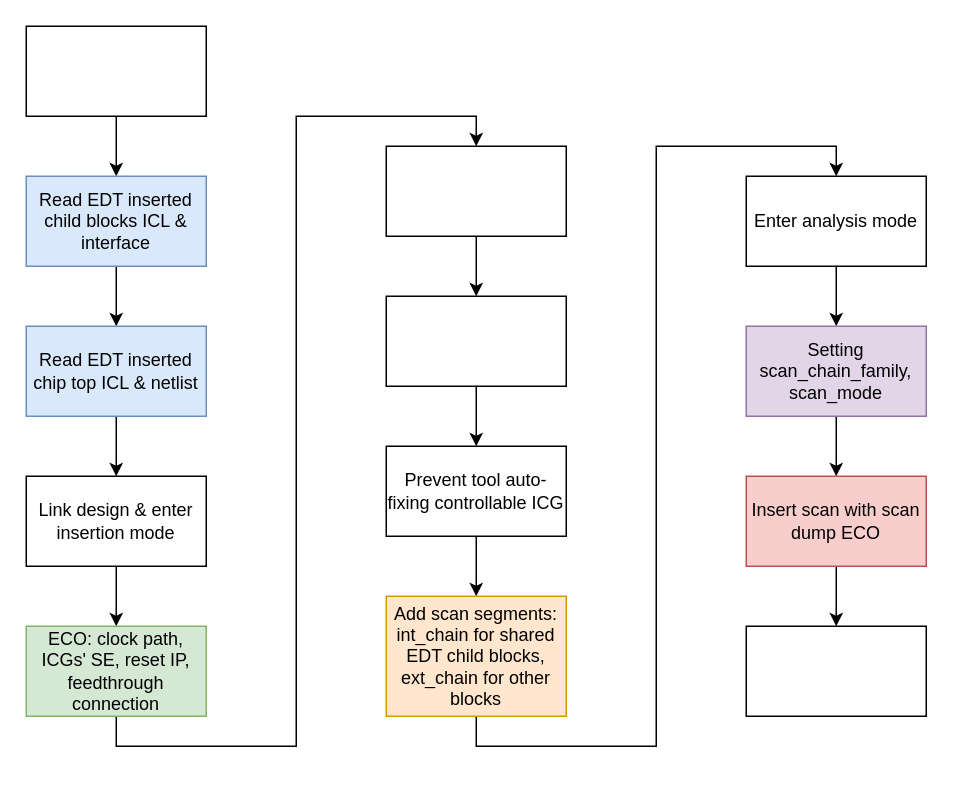
This 953x785 diagram has some shape labels left out. Each missing label, with the box of its shape:
Add nonscan: IST_trigger , TDR, BISR,...: (385, 295, 566, 386)
Enter setup mode, add constraints: (385, 145, 566, 236)
Read library: (25, 25, 206, 116)
Write output: (745, 625, 926, 716)
